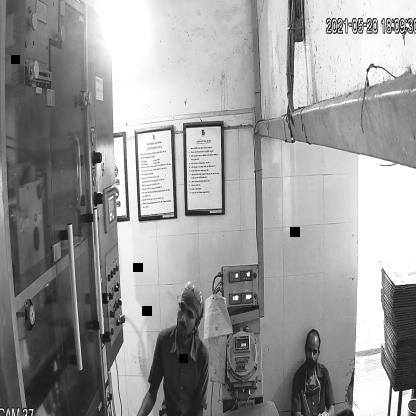no_goggles: (175, 301, 198, 324), (304, 341, 322, 361)
